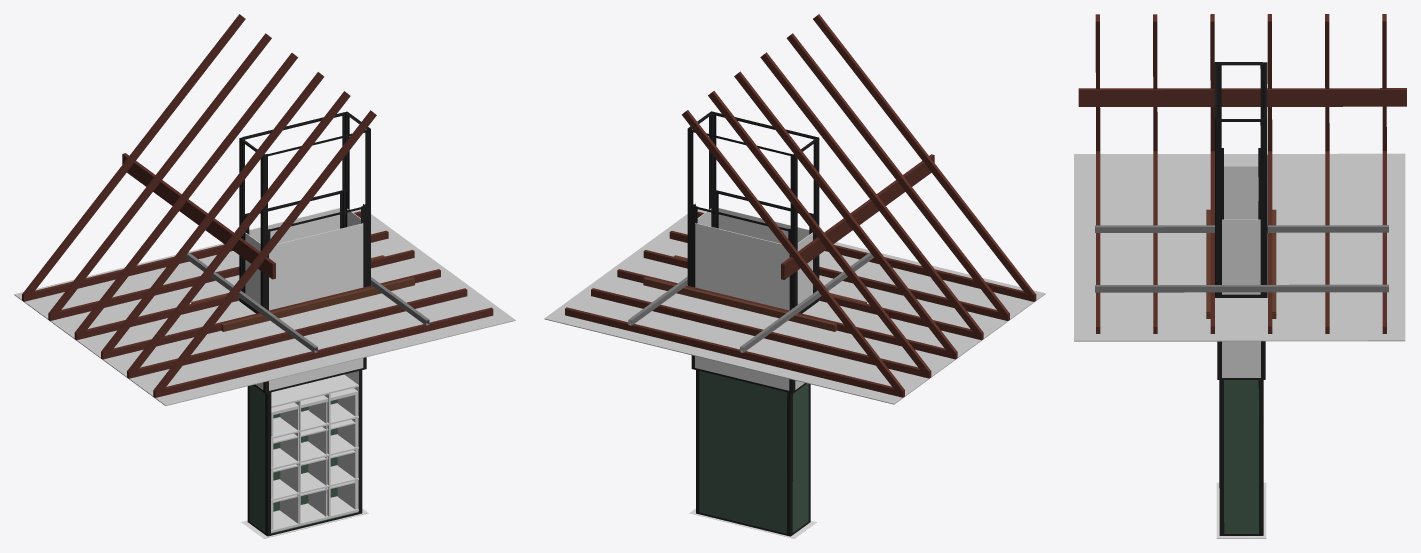
File: unitmain.gltf
3 renders of one model, left to right at view 1: azimuth 30°, elevation 25°; view 2: azimuth 150°, elevation 25°; view 3: azimuth 270°, elevation 25°, orthographic. The views are drawn at different scales.
Visible parts, largest first — view 1: joists, Ceiling, mid_panels, unit_shelves, Kallax, loft_frame, main_panels, main_frame, support_joists, box_section, mid_frame; view 2: joists, Ceiling, main_panels, mid_panels, loft_frame, main_frame, support_joists, mid_frame, box_section; view 3: Ceiling, joists, mid_panels, main_panels, box_section, loft_frame, main_frame, support_joists, mid_frame, hatch_panel.
Part boxes in pixels (x1,y1,x2,y2): joists: (22, 14, 493, 397); Ceiling: (14, 209, 515, 405); mid_panels: (245, 208, 363, 390); unit_shelves: (271, 374, 358, 532); Kallax: (271, 388, 357, 532); loft_frame: (239, 111, 370, 313); main_panels: (249, 385, 358, 533); main_frame: (247, 370, 362, 536); support_joists: (191, 255, 414, 331); box_section: (180, 249, 429, 352); mid_frame: (243, 189, 366, 393); joists: (565, 14, 1036, 397); Ceiling: (544, 209, 1045, 404); main_panels: (699, 371, 808, 533); mid_panels: (695, 208, 812, 390); loft_frame: (687, 111, 819, 313); main_frame: (696, 370, 810, 536); support_joists: (643, 255, 866, 331); mid_frame: (691, 189, 814, 393); box_section: (628, 252, 873, 352); Ceiling: (1074, 153, 1405, 341); joists: (1078, 14, 1406, 333); mid_panels: (1222, 166, 1260, 377); main_panels: (1224, 380, 1258, 533); box_section: (1095, 225, 1388, 292); loft_frame: (1214, 62, 1267, 297); main_frame: (1219, 380, 1263, 535); support_joists: (1206, 209, 1276, 318); mid_frame: (1217, 148, 1265, 379); hatch_panel: (1216, 482, 1266, 538).
Size of the model in its own units: 4.17 by 5.17 by 3.14.
